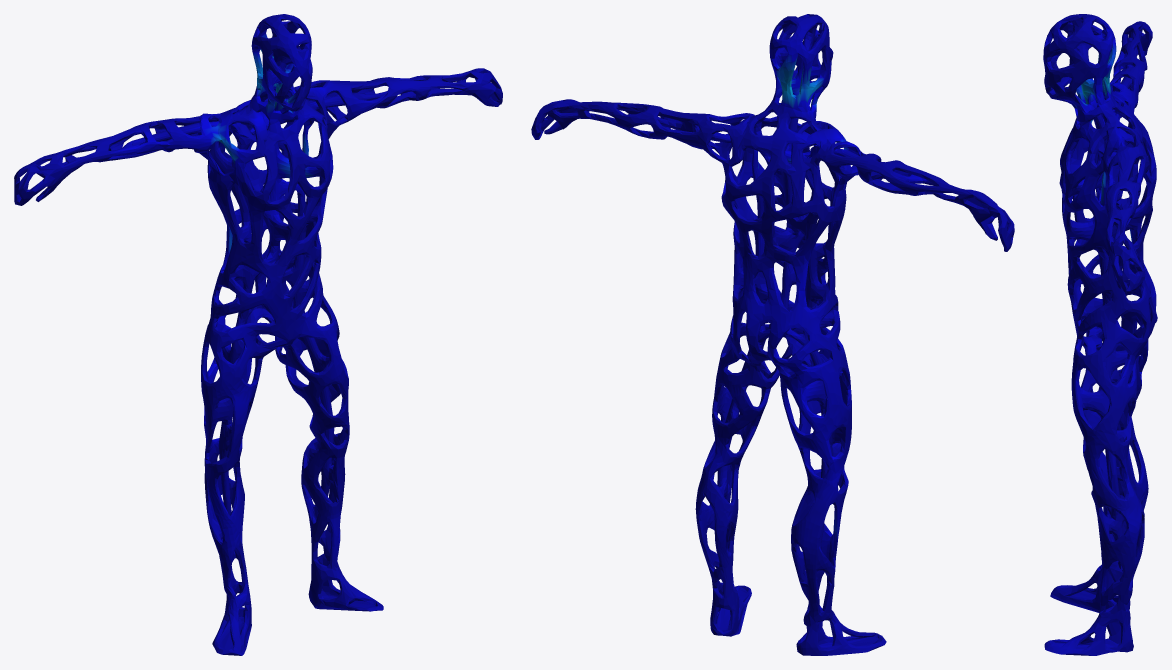
The model's file is holey_error.glb.
The picture shows the model from 3 angles, left to right: view 1: azimuth 30°, elevation 25°; view 2: azimuth 150°, elevation 25°; view 3: azimuth 270°, elevation 25°; orthographic projection.
Visible parts, largest first — view 1: holey_t.obj; view 2: holey_t.obj; view 3: holey_t.obj.
Part boxes in pixels (x1,y1,x2,y2): holey_t.obj: (14, 14, 502, 655); holey_t.obj: (531, 14, 1014, 655); holey_t.obj: (1043, 14, 1157, 655).
Size of the model in its own units: 1.39 by 1.7 by 0.2895.
